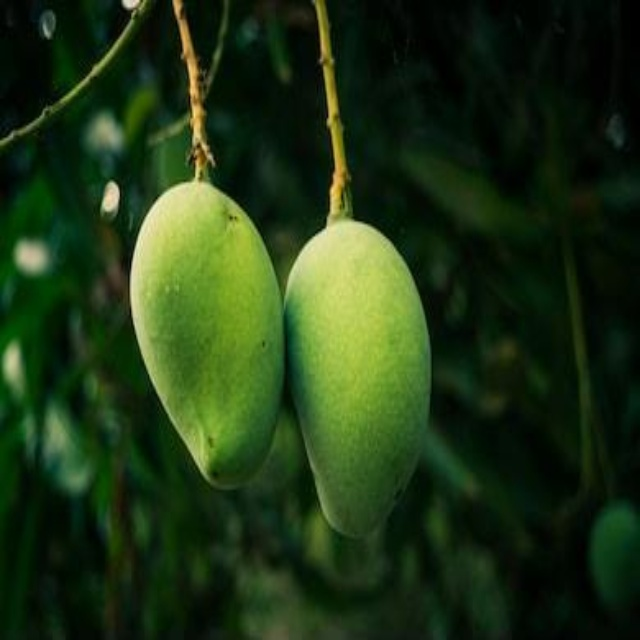mango: (282, 216, 433, 538), (135, 179, 288, 490)
